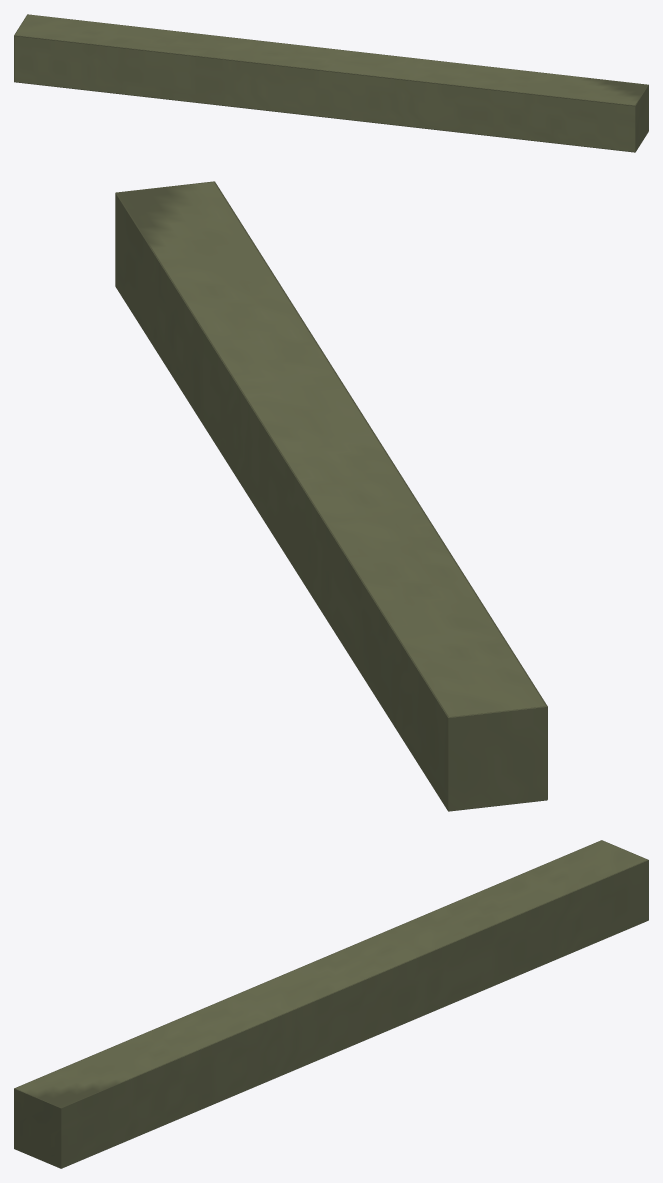
3 views of the same model, one above another, from view 1: azimuth 30°, elevation 25°; view 2: azimuth 150°, elevation 25°; view 3: azimuth 270°, elevation 25° (orthographic). The views are drawn at different scales.
Parts seen in each view (by area): view 1: part-a; view 2: part-a; view 3: part-a.
Boxes of the visible parts, x1,y1,x2,y2 form: part-a: (14,14,648,152); part-a: (115,181,547,811); part-a: (14,840,648,1168).
Bounding box in the file's own units: 1.15 × 0.1208 × 1.15.
